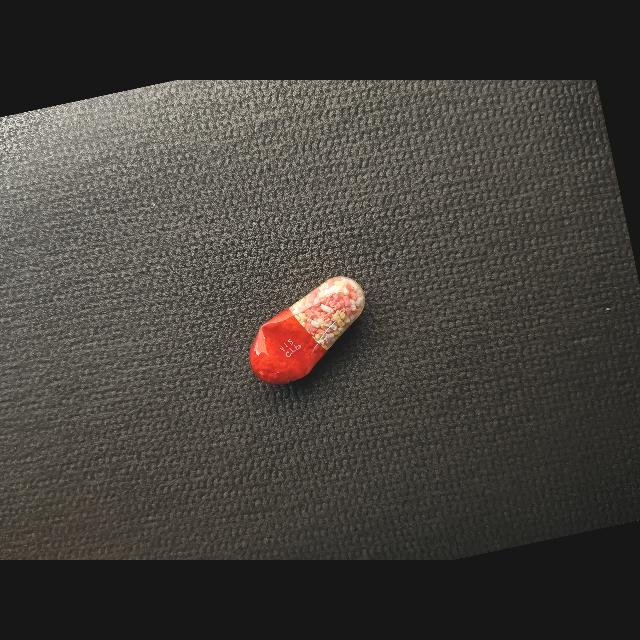Defective Capsule: (249, 276, 365, 384)
